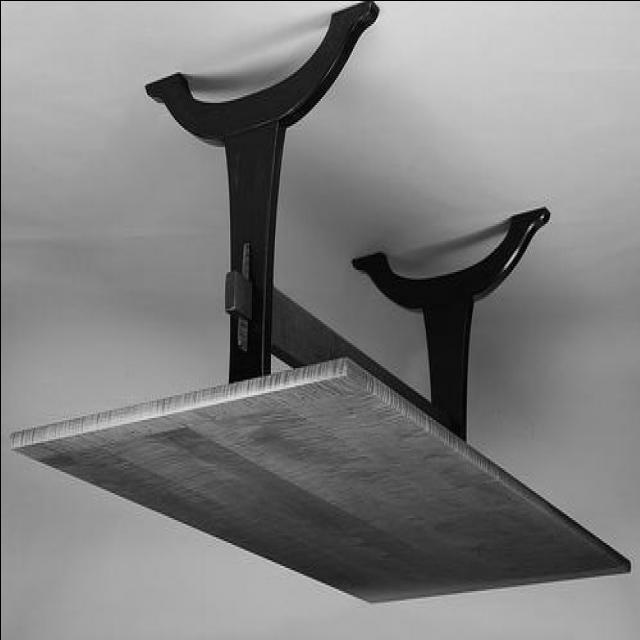table: (7, 1, 629, 608)
